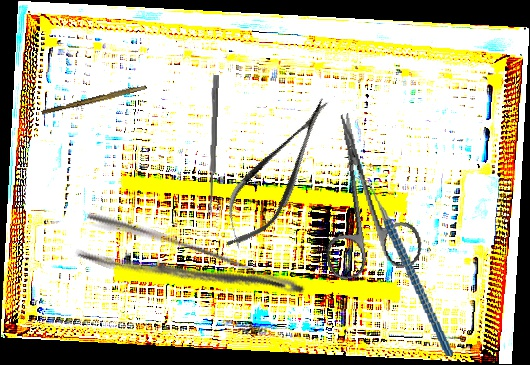Chopper: (352, 168, 454, 365)
Dressing Forceps: (73, 208, 308, 331)
Iris Scissors: (300, 104, 426, 282)
Micro Scissor: (204, 85, 351, 262)
Scalpel Handle: (40, 82, 148, 117)
Surgical Spoon: (207, 74, 219, 217)
